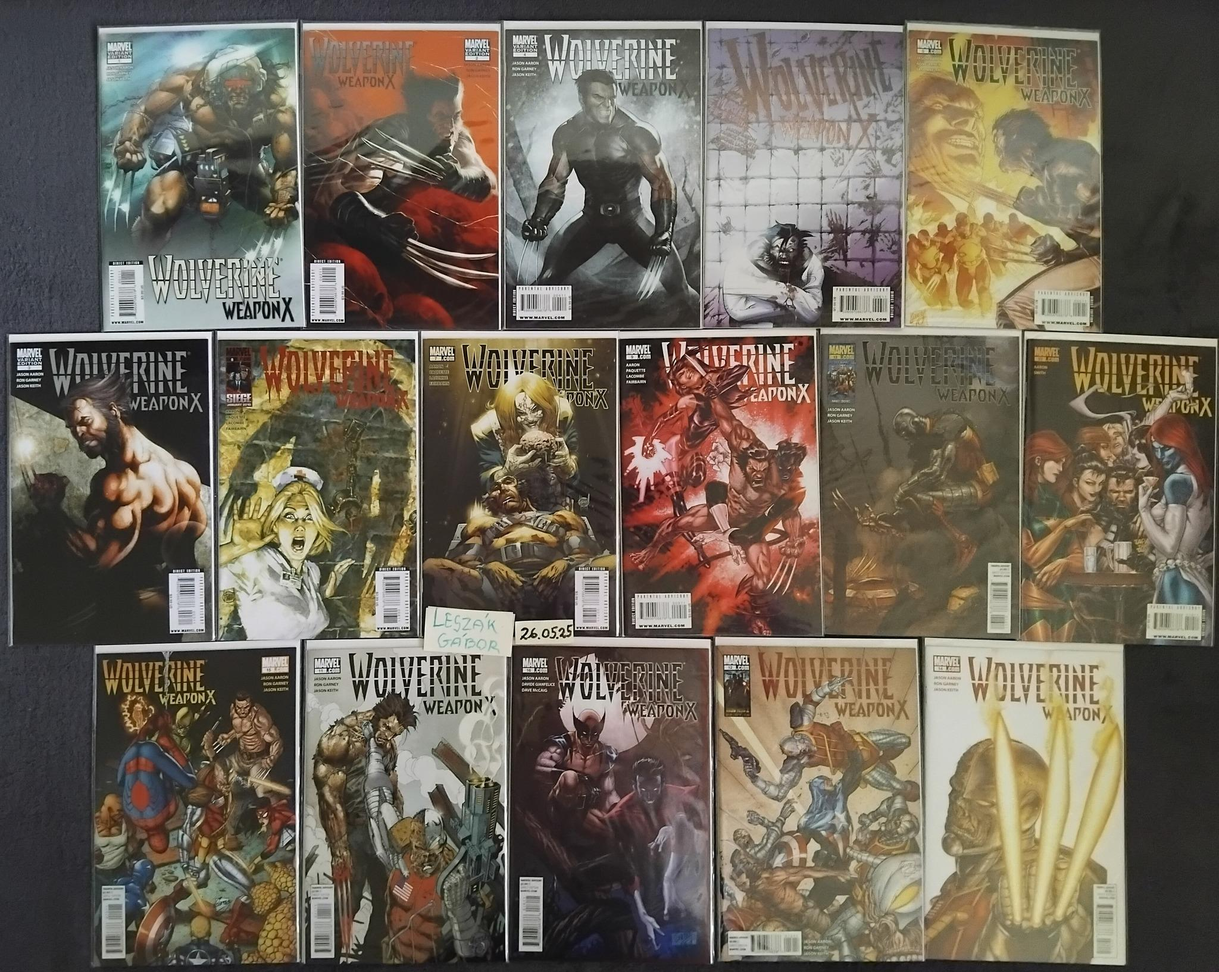comic: (508, 637, 717, 963), (300, 639, 509, 965), (715, 636, 923, 962), (91, 642, 298, 965), (924, 639, 1126, 965), (94, 22, 306, 332), (9, 333, 213, 643), (702, 22, 906, 329), (217, 331, 420, 639), (620, 329, 821, 639), (502, 21, 703, 329), (819, 330, 1020, 637), (1020, 334, 1218, 645), (903, 23, 1103, 330), (302, 23, 499, 328), (421, 332, 618, 635)
